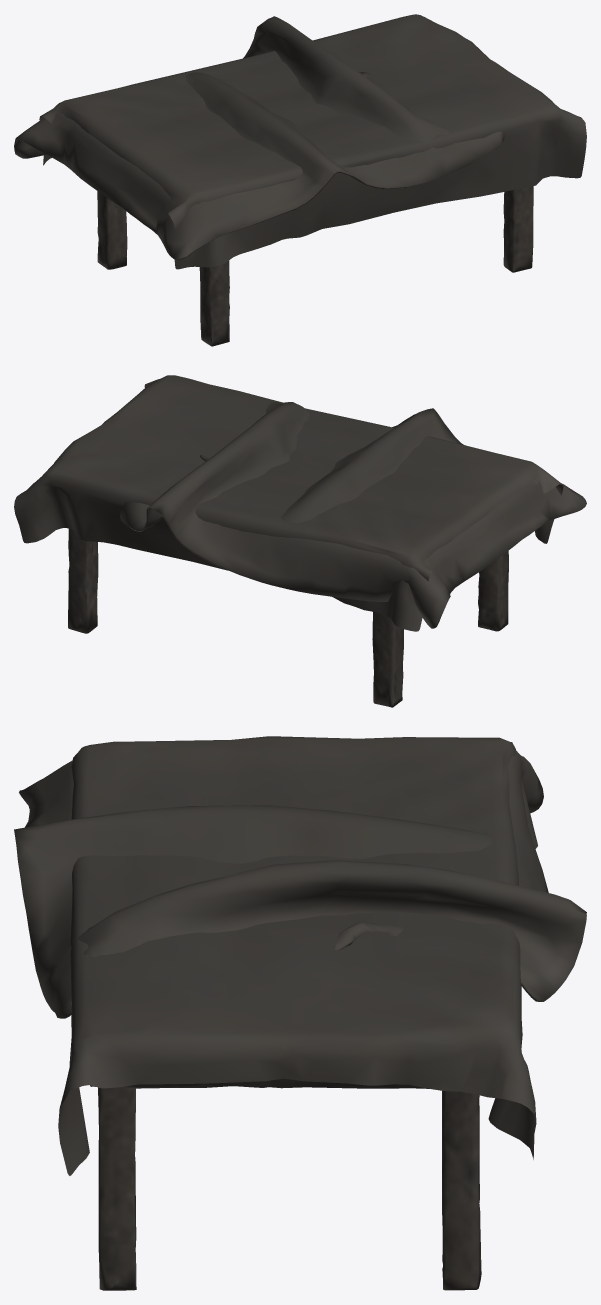
Rendered from Table_01.fbx.
3 views of the same model, one above another, from view 1: azimuth 30°, elevation 25°; view 2: azimuth 150°, elevation 25°; view 3: azimuth 270°, elevation 25° (orthographic). The views are drawn at different scales.
Visible parts, largest first — view 1: TableCloth_01, TableCloth_02, Table_01; view 2: TableCloth_01, TableCloth_02, Table_01; view 3: TableCloth_01, TableCloth_02, Table_01.
Part boxes in pixels (x1=…): TableCloth_01: x1=39, y1=14, x2=586, y2=269; TableCloth_02: x1=14, y1=16, x2=504, y2=260; Table_01: x1=97, y1=186, x2=533, y2=346; TableCloth_01: x1=14, y1=375, x2=563, y2=631; TableCloth_02: x1=120, y1=401, x2=586, y2=628; Table_01: x1=68, y1=529, x2=508, y2=707; TableCloth_01: x1=58, y1=736, x2=537, y2=1175; TableCloth_02: x1=14, y1=749, x2=586, y2=1018; Table_01: x1=90, y1=1047, x2=481, y2=1290.
Size of what is drawn, in the model's own units: 280 by 120 by 193.
